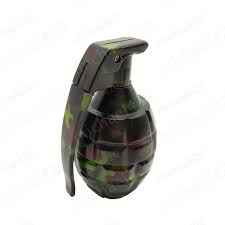e1: (59, 34, 157, 200)
